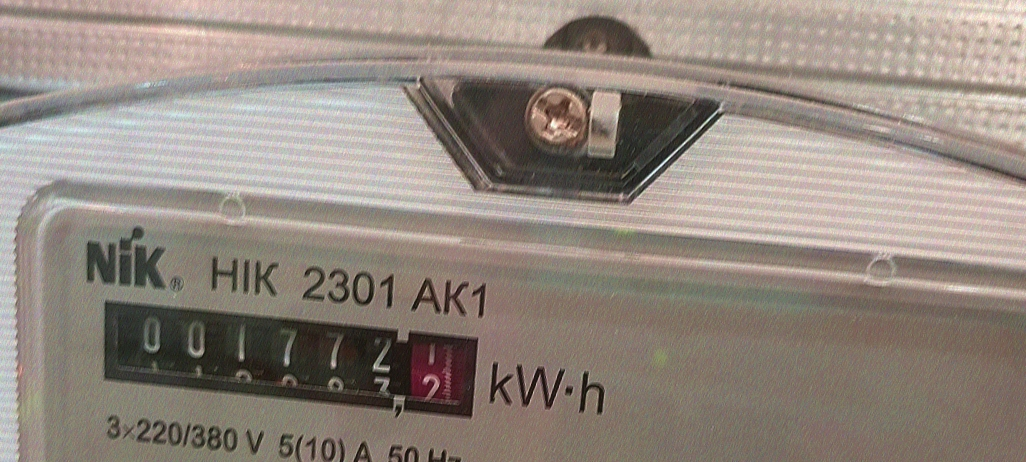0: (136, 310, 168, 353), (183, 316, 211, 357)
1: (232, 320, 253, 361), (424, 340, 440, 367)
2: (369, 335, 396, 374), (417, 369, 444, 400)
3: (371, 373, 395, 396)
7: (274, 324, 301, 367), (321, 329, 347, 370)
screen: (84, 279, 501, 437)
